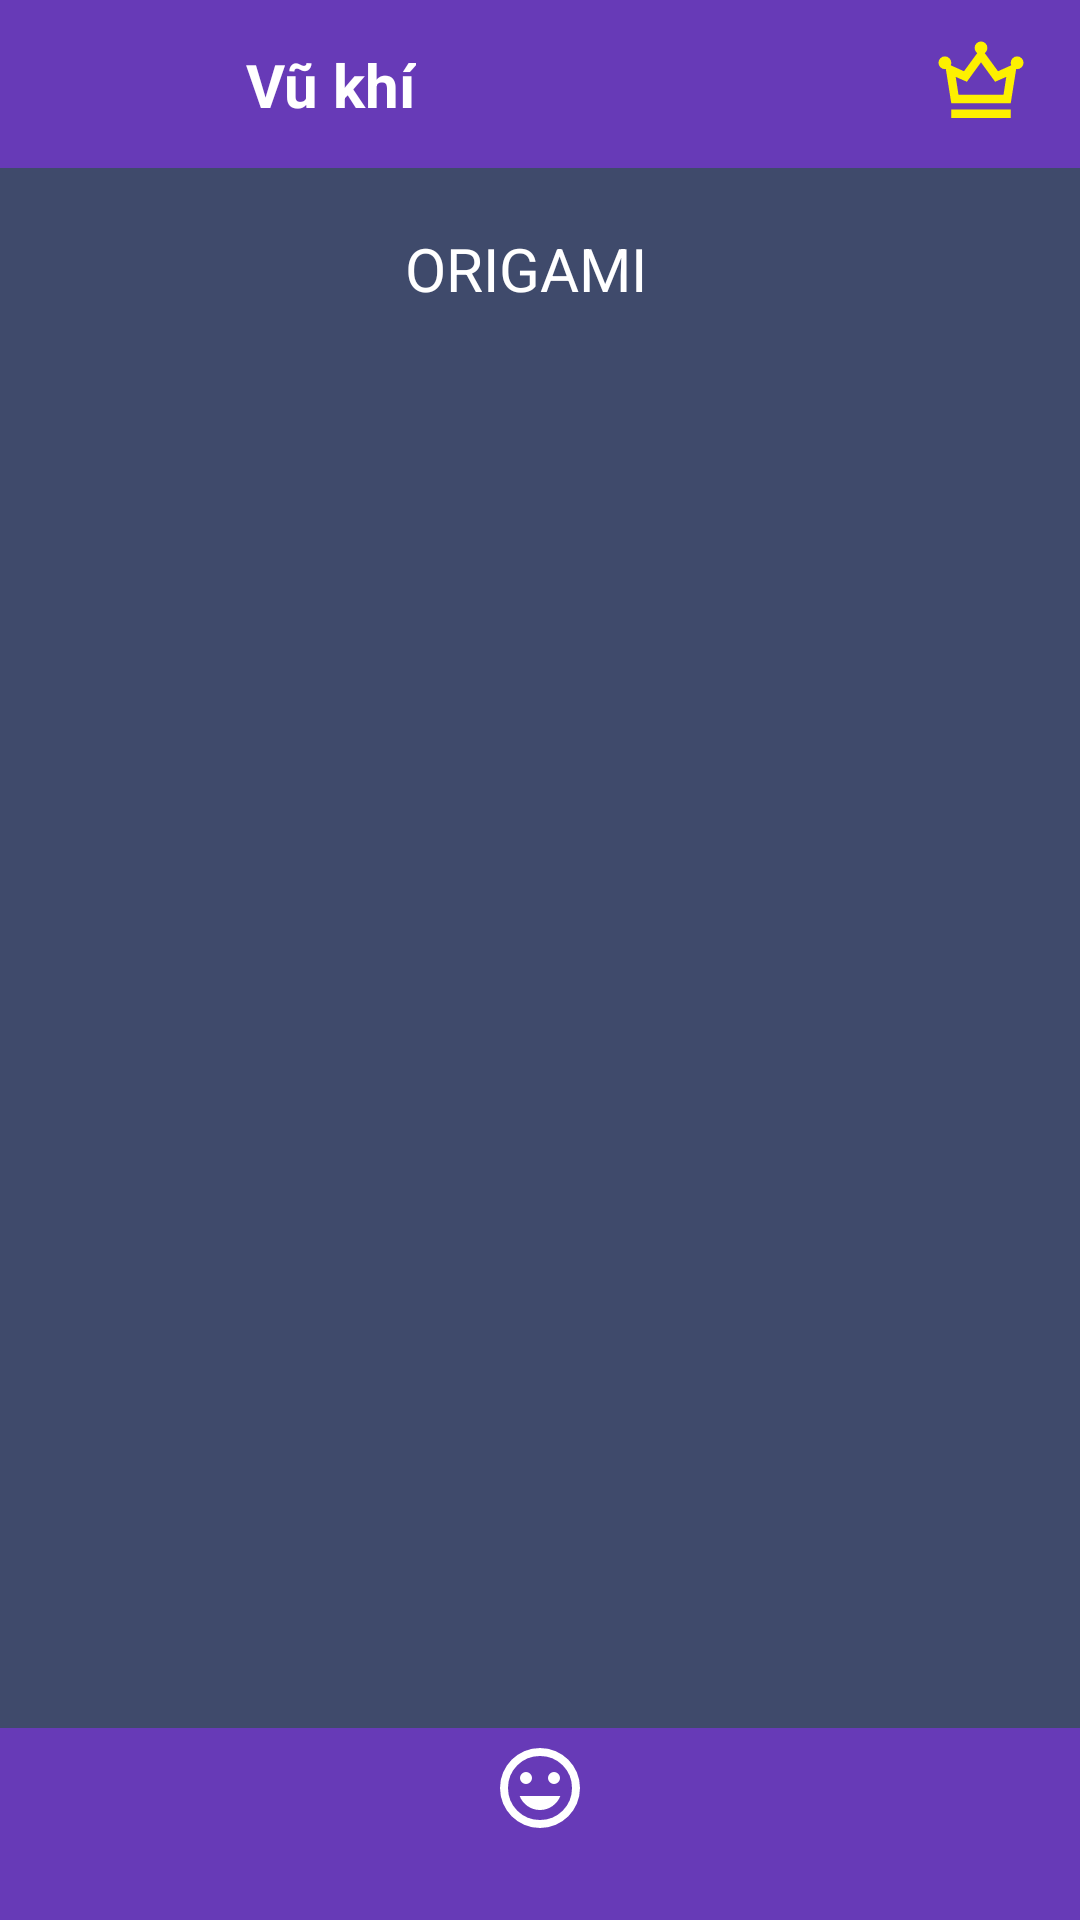

Icons on this 1080px×1920px Android screen, each with its box as [x1=x1, y1=y1, x2=x2, y2=y2]:
crown: [x1=938, y1=41, x2=1024, y2=118]
